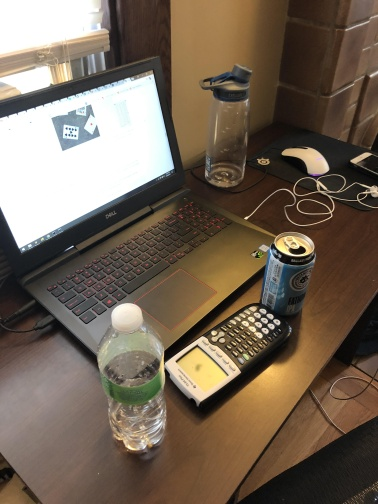bottle: (95, 301, 171, 454)
can: (257, 228, 317, 322)
